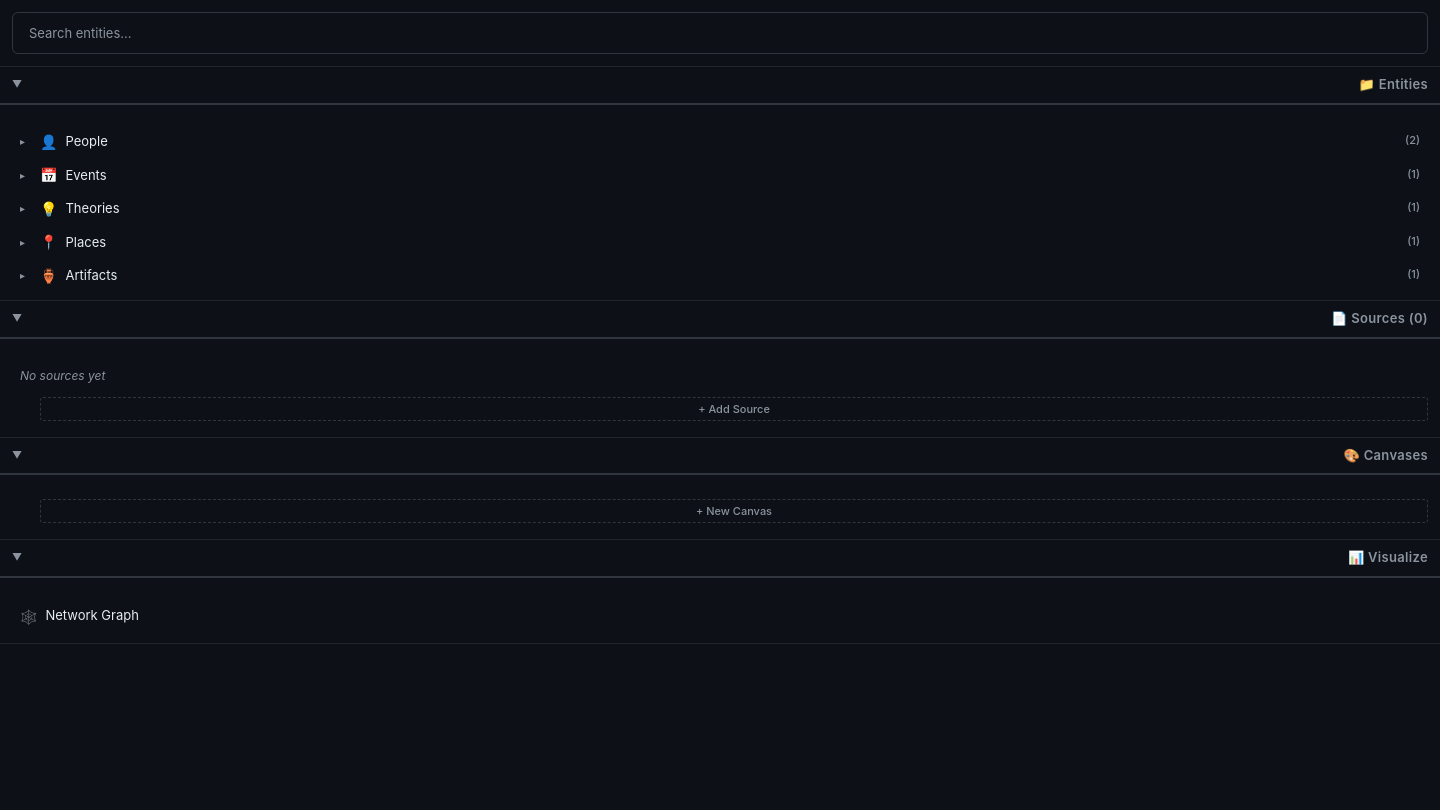
Test: EntityExplorer › expands entity type when clicked
The width and height of the screenshot is (1440, 810).
Click the text "▸ 👤 People (2)": (87, 141) [20,132,1420,150]
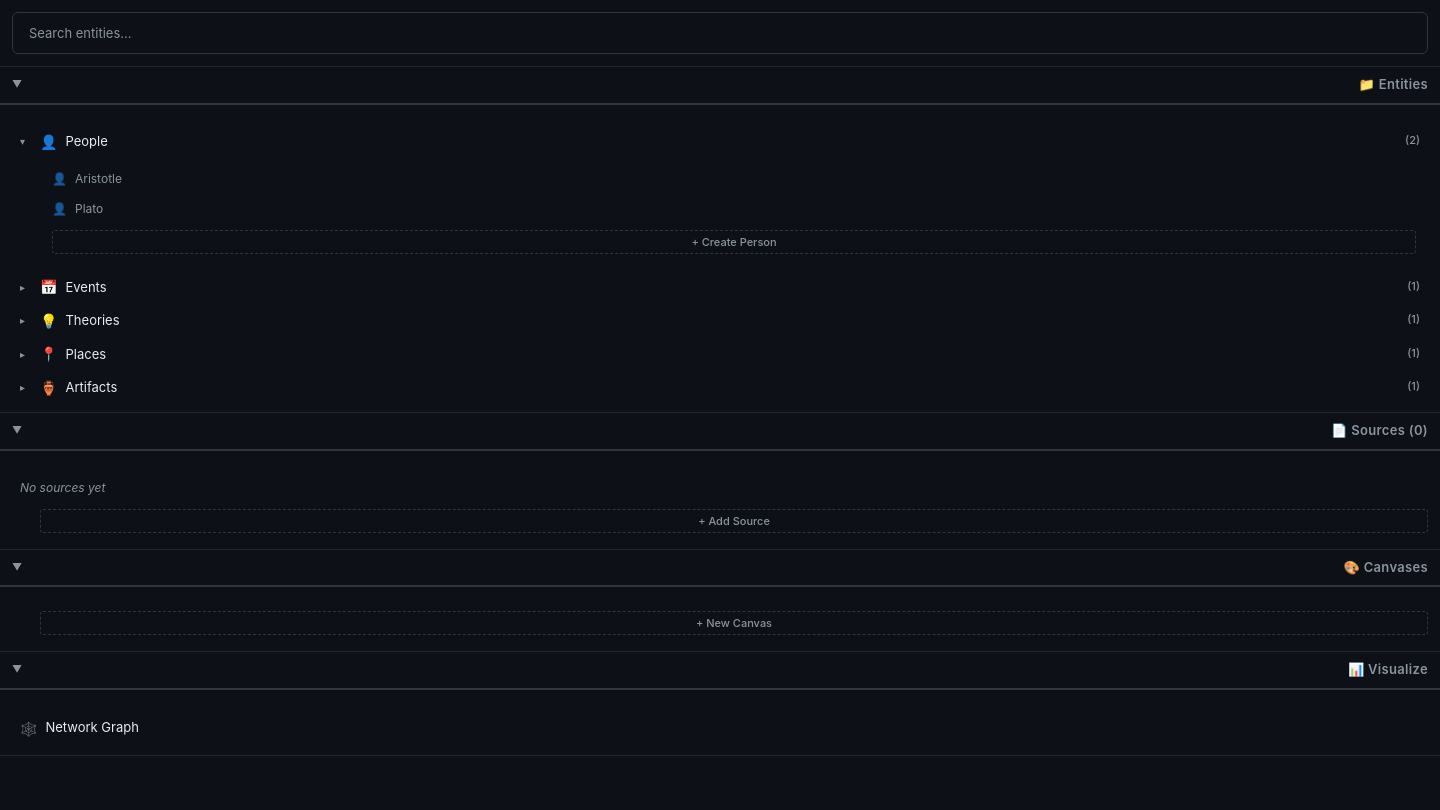
Now the text "Aristotle" is shown, box [75,171,122,186]
Now the text "Plato" is shown, box [75,201,103,216]
